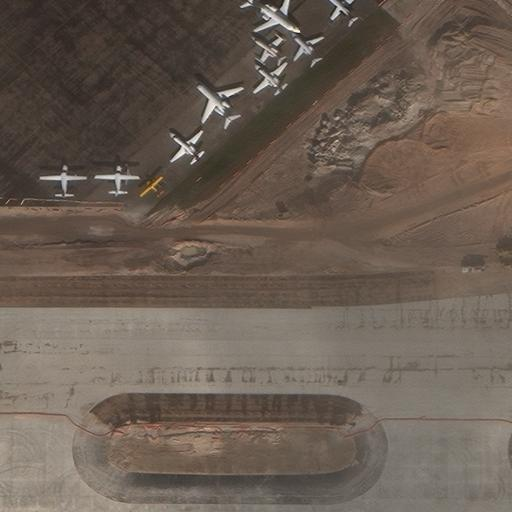Medium Civil Transport: (194, 81, 243, 122), (247, 0, 300, 33), (39, 164, 86, 199), (168, 130, 202, 161), (252, 61, 286, 92)
Small Civil Transport: (94, 165, 138, 197), (290, 32, 323, 63), (250, 34, 282, 61), (325, 0, 355, 22), (138, 176, 161, 195)
